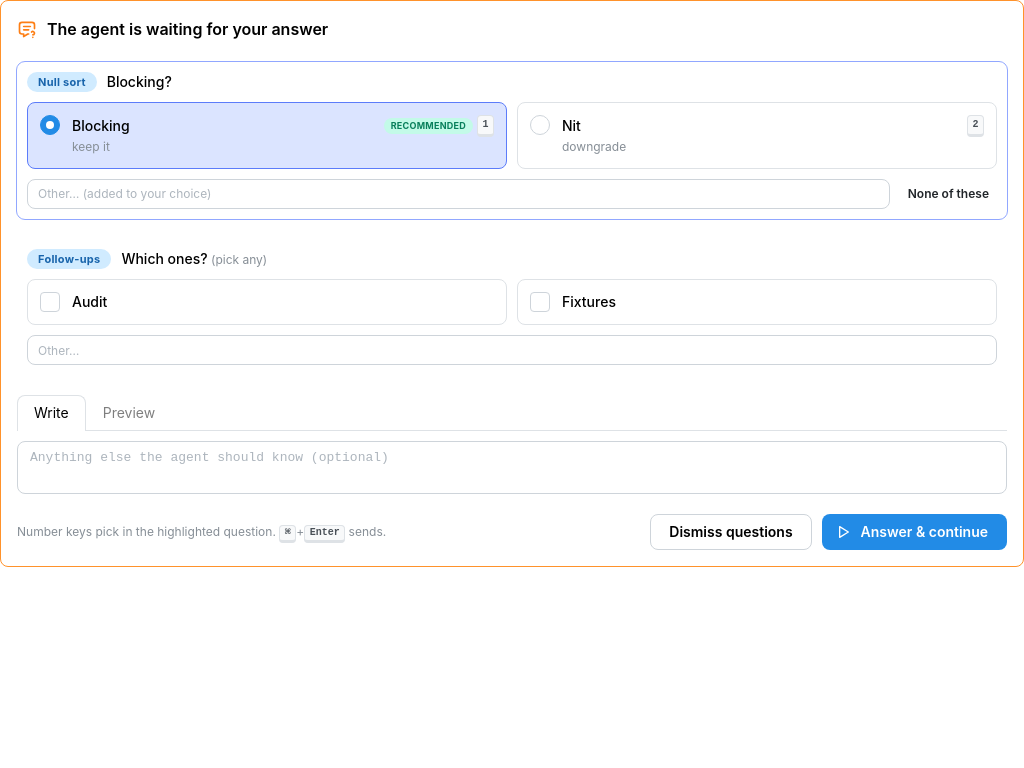
Test: QuestionPanel › dismisses the questions only after the user confirms
Later steps or results of the test are not shown.
Click the button "Dismiss questions". click: (731, 532)
box: top-left (650, 514), bottom-right (812, 550)
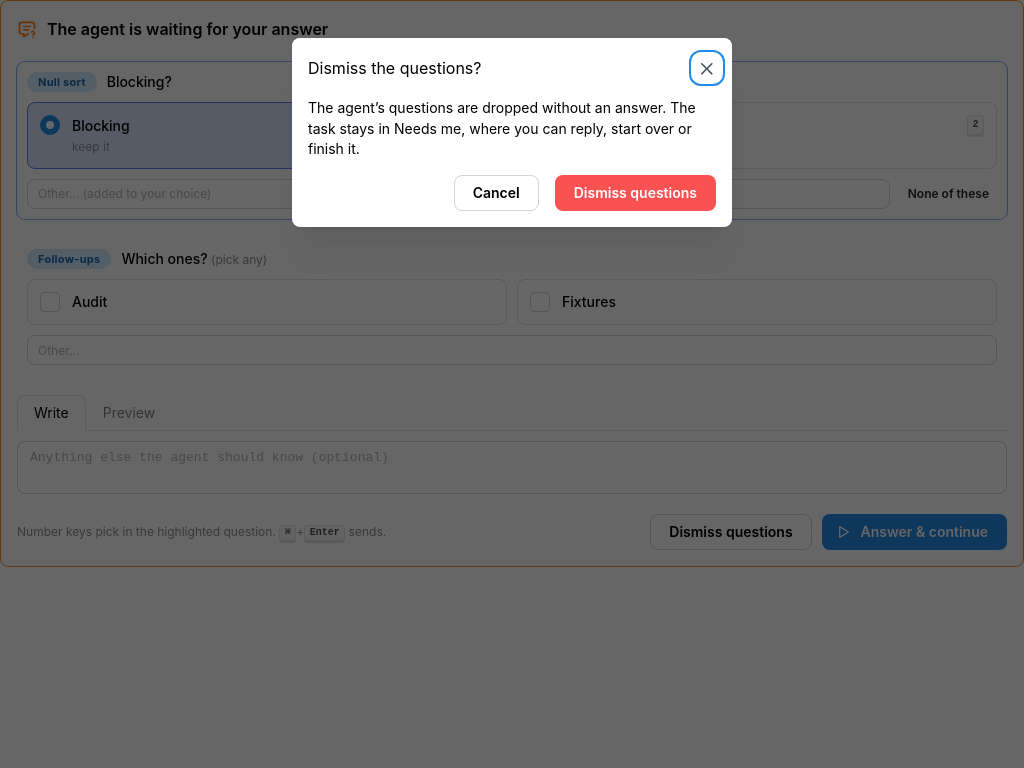
Check: the heading "Dismiss the questions?" is shown, box top-left (308, 60), bottom-right (482, 76)
